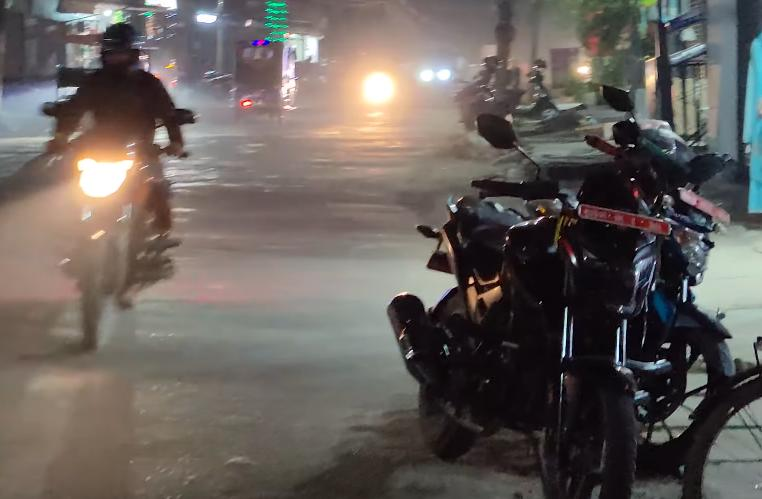bike: (381, 167, 668, 499), (33, 98, 203, 354)
